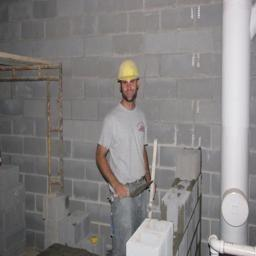hat: (111, 55, 152, 92)
no vest: (99, 101, 160, 192)
